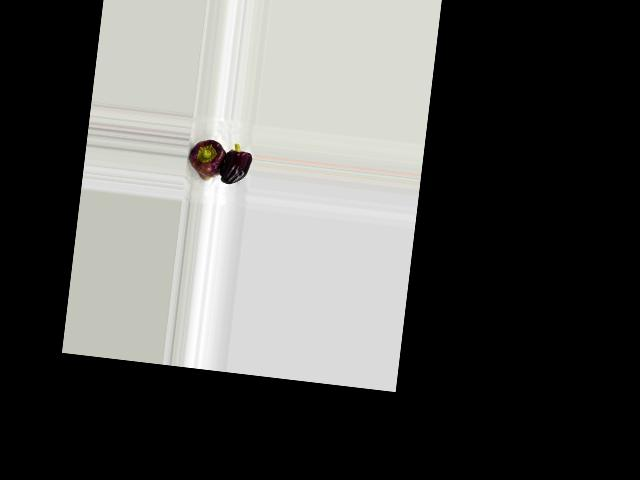bell_pepper: (184, 129, 229, 189)
